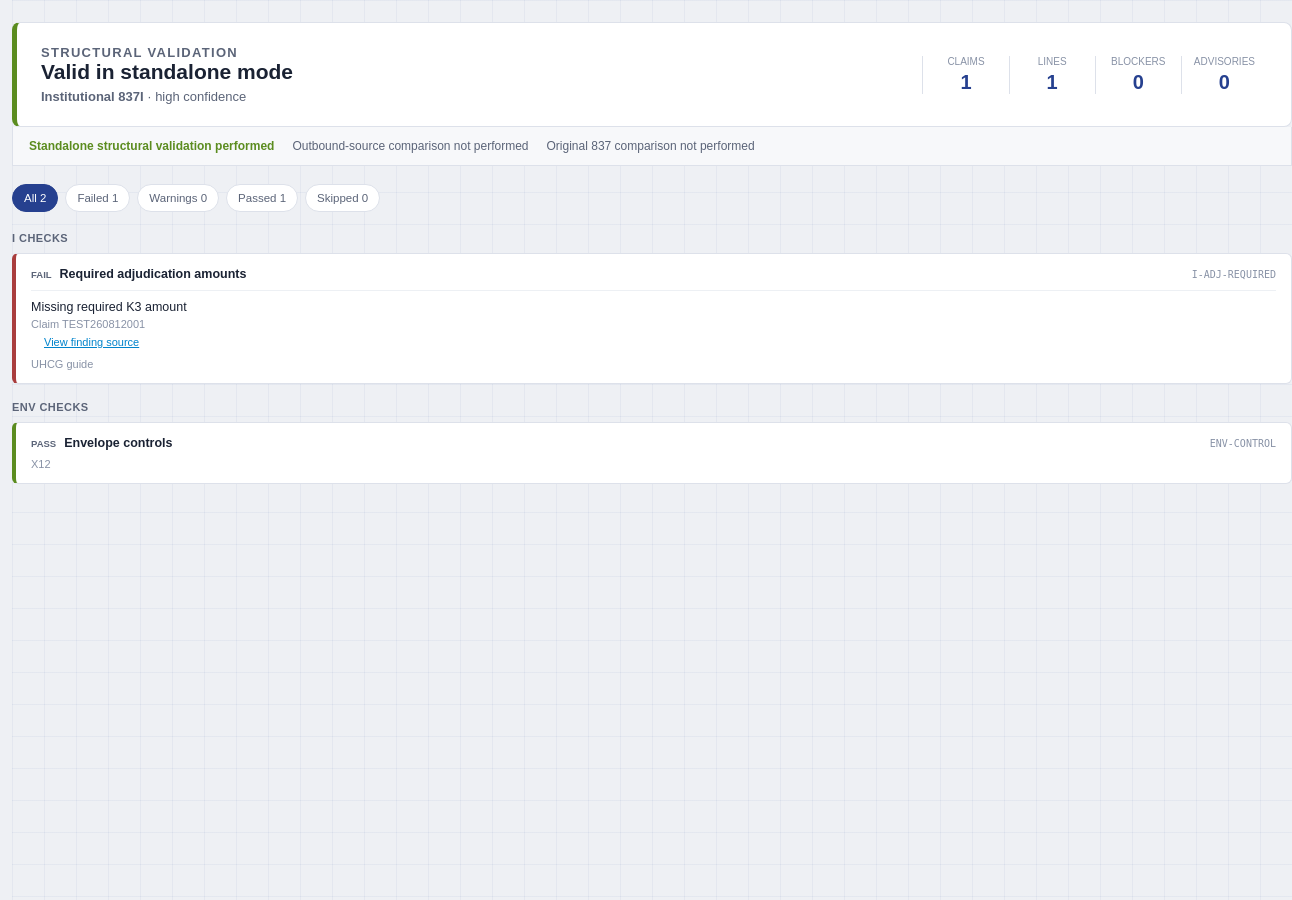
Scenario: traceable validation presentation › filters structural checks and preserves their citations
Click the button "Failed 1": (98, 198) 65,184 -> 130,212
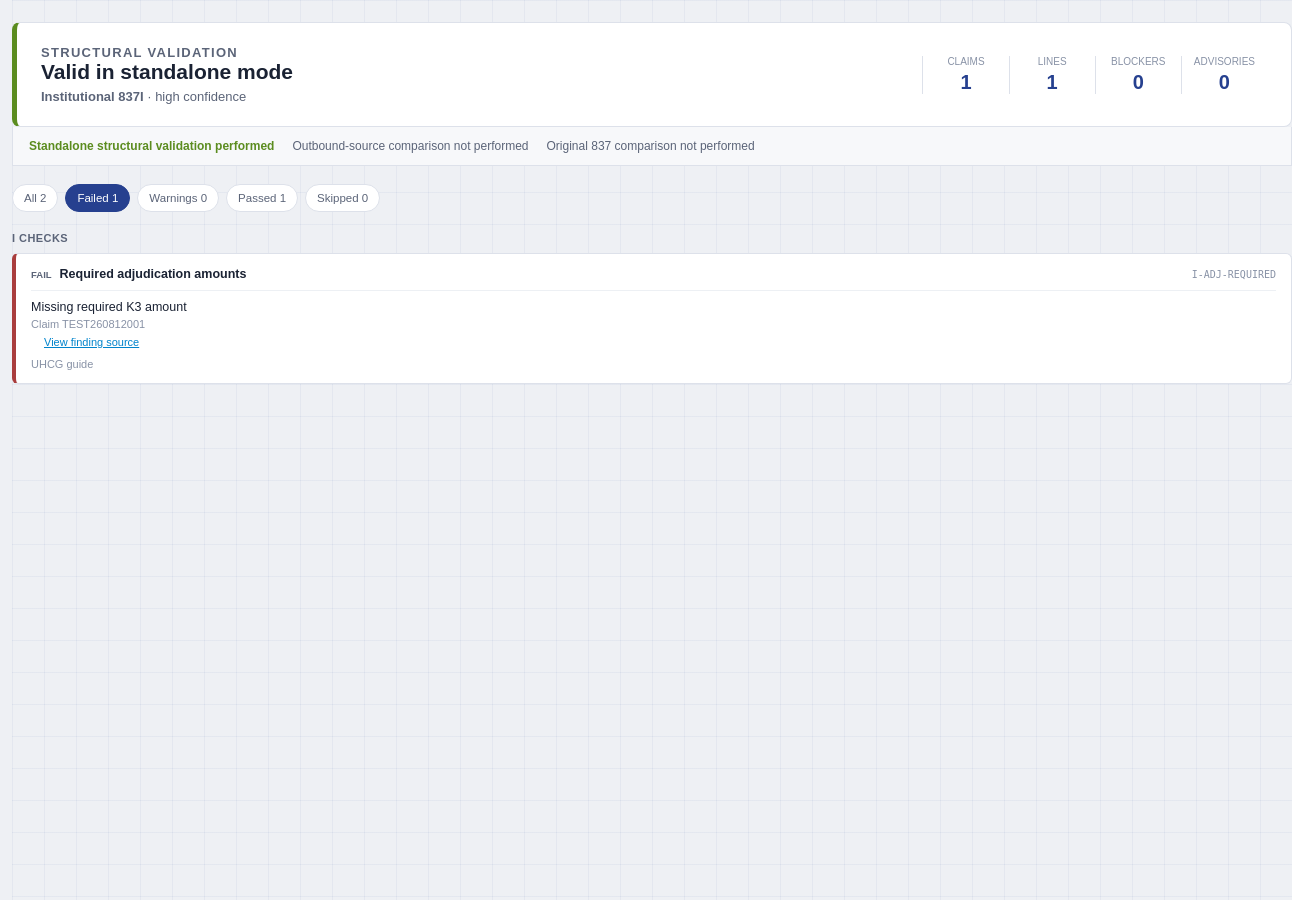
Check: the text "Missing required K3 amount" is shown, box 31,300 -> 187,314
Check: the text "Envelope controls" is gone
